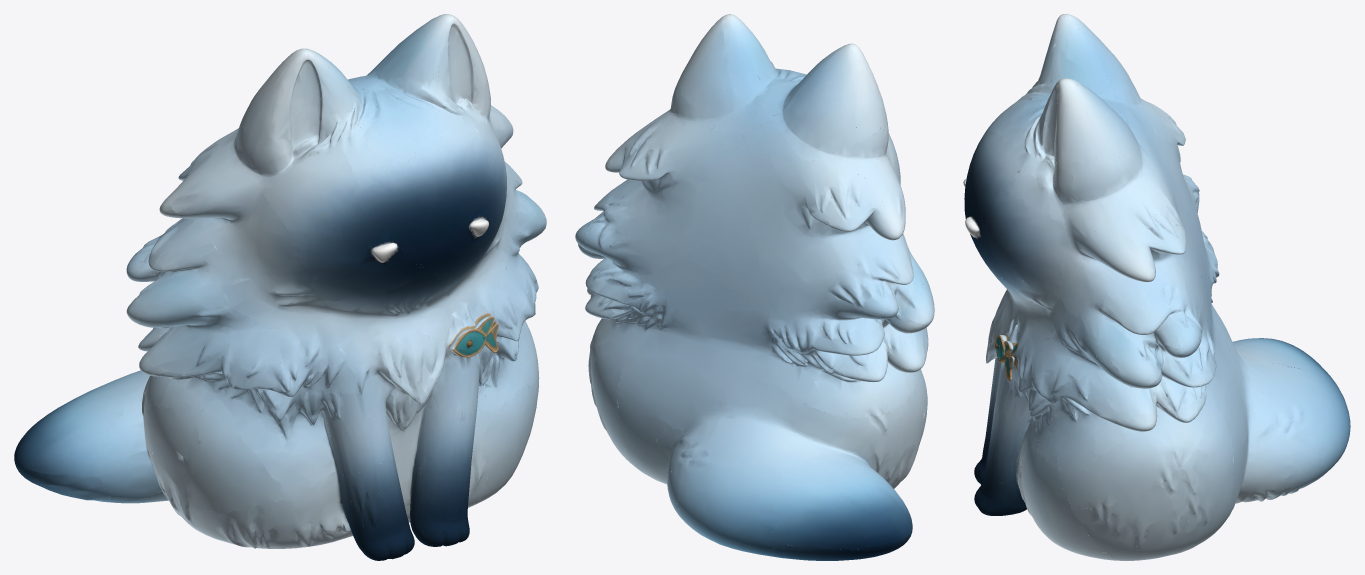
File: fish-brooch-CBOhtq60.glb
The picture shows the model from 3 angles, left to right: view 1: azimuth 30°, elevation 25°; view 2: azimuth 150°, elevation 25°; view 3: azimuth 270°, elevation 25°; orthographic projection. The views are drawn at different scales.
Visible parts, largest first — view 1: worn-fish-brooch; view 2: worn-fish-brooch; view 3: worn-fish-brooch.
Part boxes in pixels (box(x1,y1,x2,y2)): worn-fish-brooch: box(14, 14, 546, 560); worn-fish-brooch: box(575, 14, 934, 560); worn-fish-brooch: box(963, 14, 1350, 560).
Size of the model in its own units: 1.84 by 1.9 by 1.48.
1 material, 1 textured.
